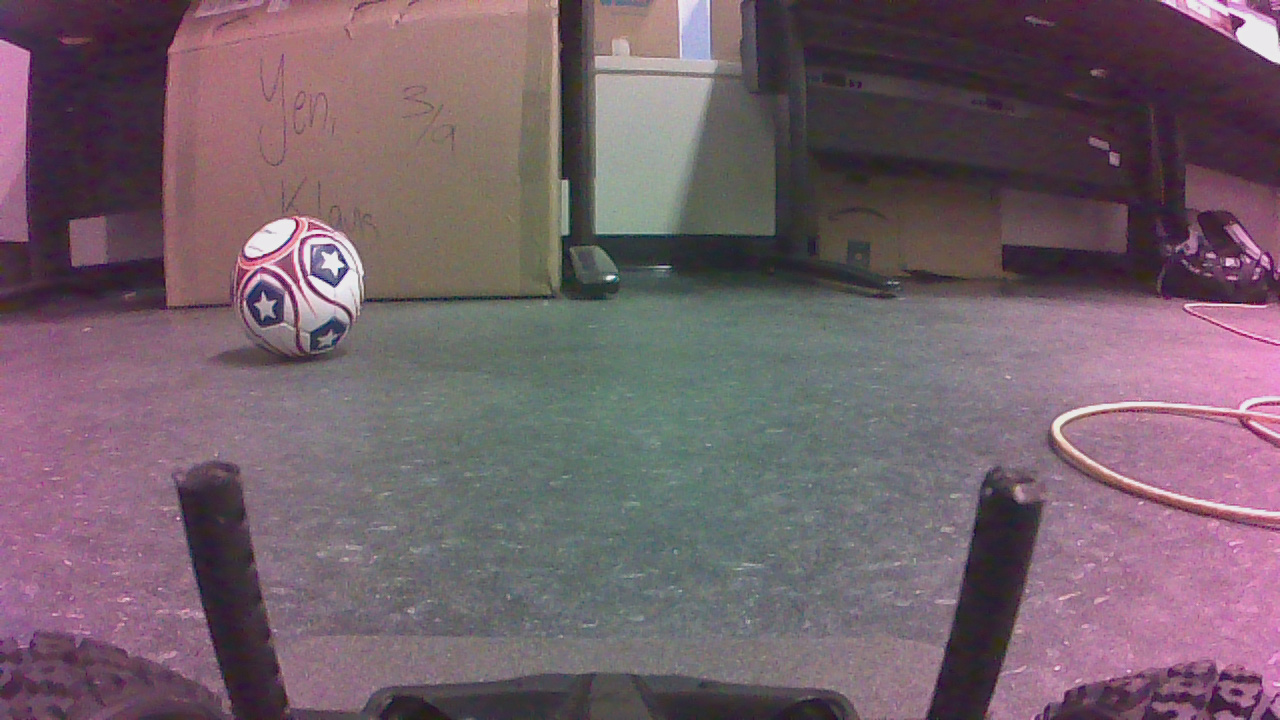ball: (220, 224, 374, 367)
